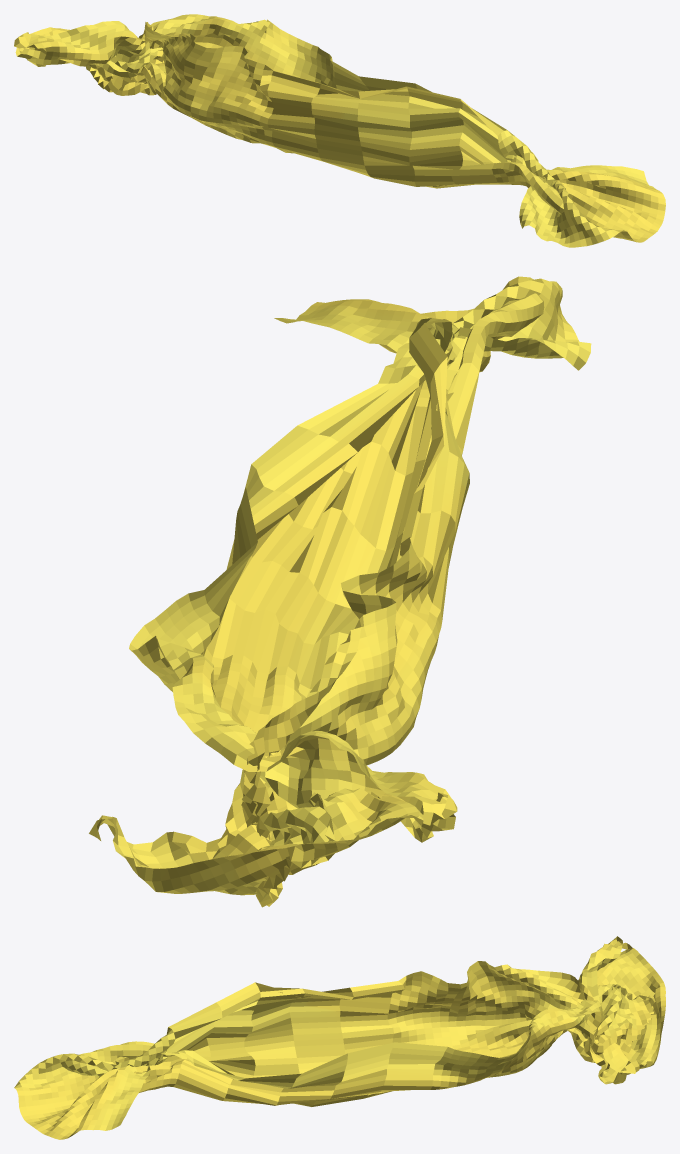
Rendered from sticky_note_3.fbx.
The picture shows the model from 3 angles, top to bottom: view 1: azimuth 30°, elevation 25°; view 2: azimuth 150°, elevation 25°; view 3: azimuth 270°, elevation 25°; orthographic projection. The views are drawn at different scales.
Parts seen in each view (by area): view 1: Plane.005; view 2: Plane.005; view 3: Plane.005.
Boxes of the visible parts, box(x1,y1,x2,y2) form: Plane.005: box(14, 14, 665, 247); Plane.005: box(89, 276, 591, 907); Plane.005: box(14, 936, 665, 1139).
Bounding box in the file's own units: 0.1417 × 0.0476 × 0.2353.
1 material, 1 textured.
